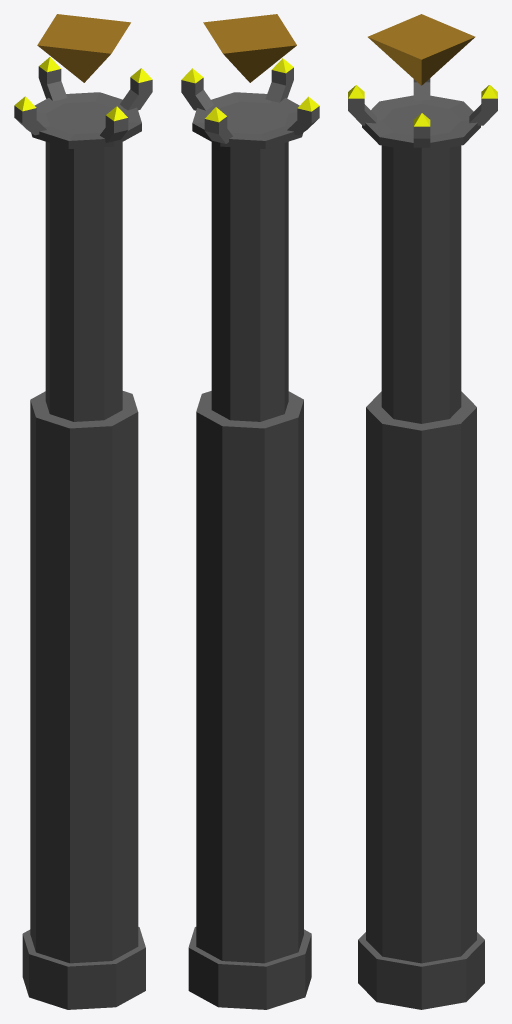
File: Latern_paal.fbx
The picture shows the model from 3 angles, left to right: view 1: azimuth 30°, elevation 25°; view 2: azimuth 150°, elevation 25°; view 3: azimuth 270°, elevation 25°; orthographic projection.
Visible parts, largest first — view 1: Cube, Cone; view 2: Cube, Cone; view 3: Cube, Cone.
Part boxes in pixels (<box>): Cube: <box>14,57,152,1009</box>; Cone: <box>37,14,130,82</box>; Cube: <box>181,58,319,1009</box>; Cone: <box>203,14,296,82</box>; Cube: <box>348,78,497,1009</box>; Cone: <box>368,14,475,85</box>.
Bounding box in the file's own units: 47.19 × 329 × 47.12.
2 materials, 2 textured.
